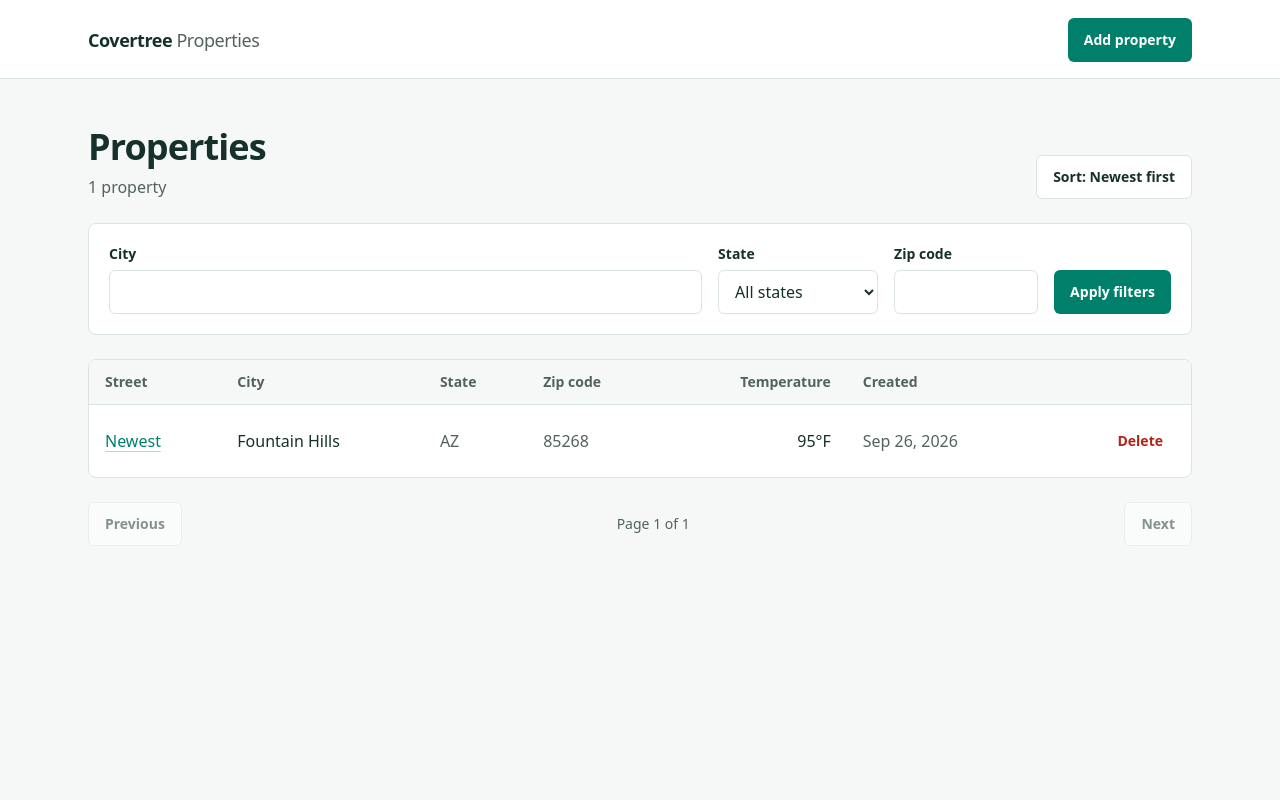
Test: PropertyListPage › AC-W.2: the sort toggle switches to oldest first
Expected: the link "Newest" is shown, [105, 430, 161, 452]
Click the button "Sort: Newest first": [1114, 177] box [1036, 155, 1192, 199]
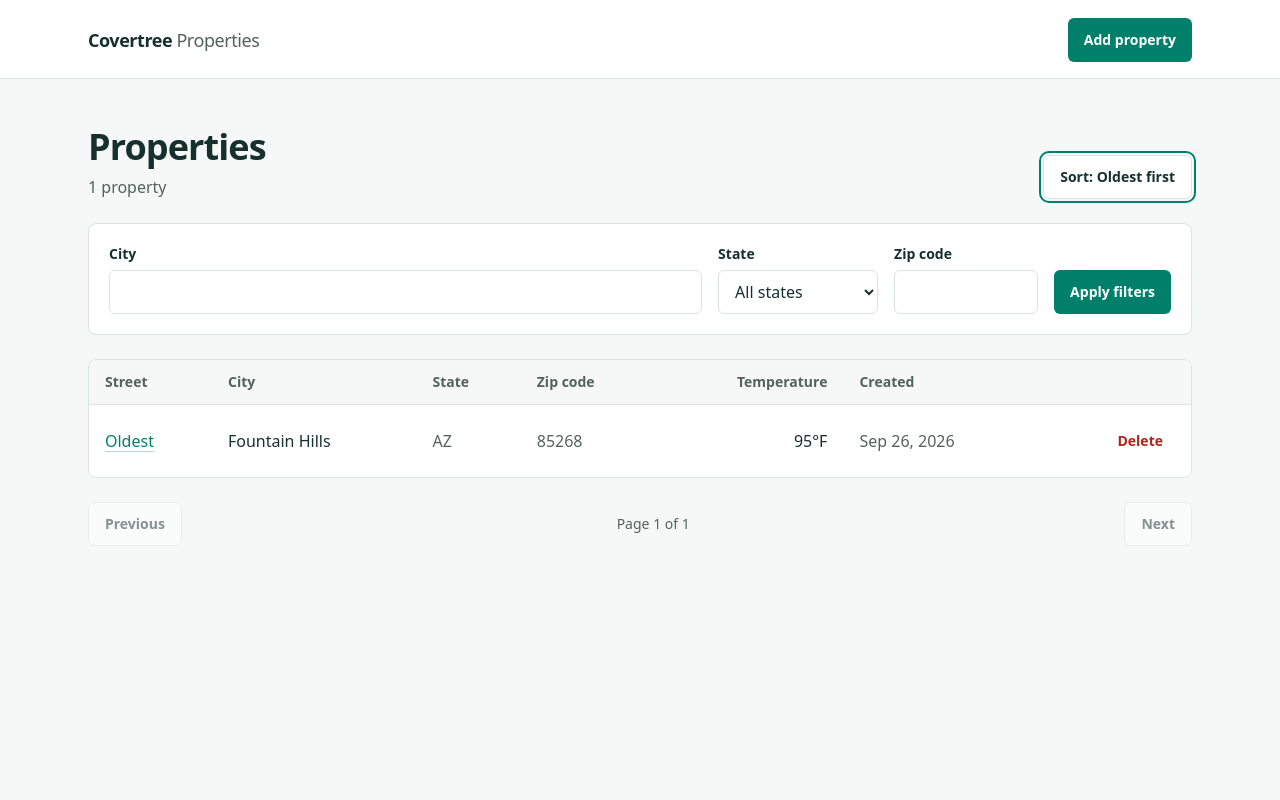
Result: the link "Oldest" is shown at [105, 430, 154, 452]
